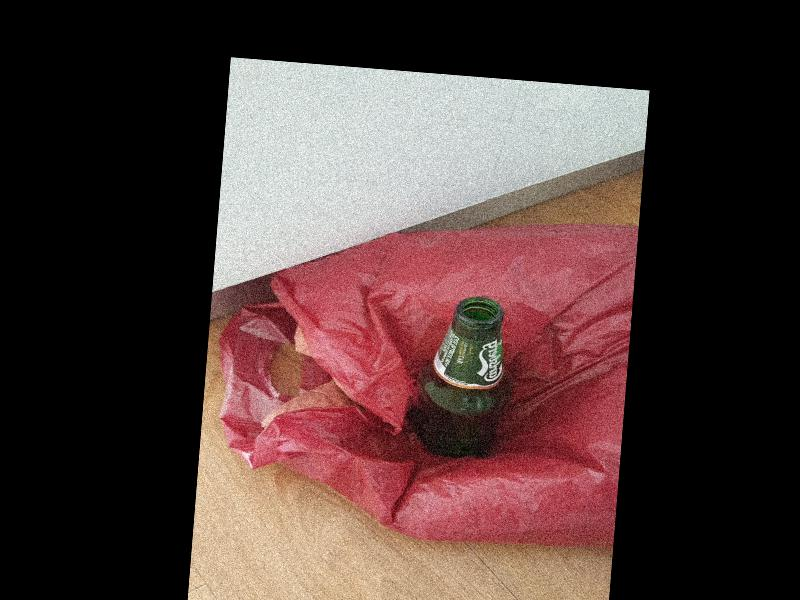Beer: (411, 294, 518, 462)
